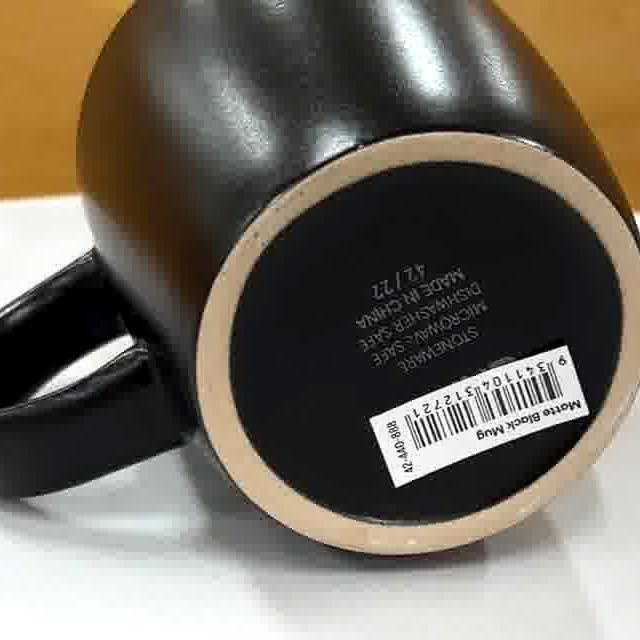cup: (0, 0, 640, 582)
